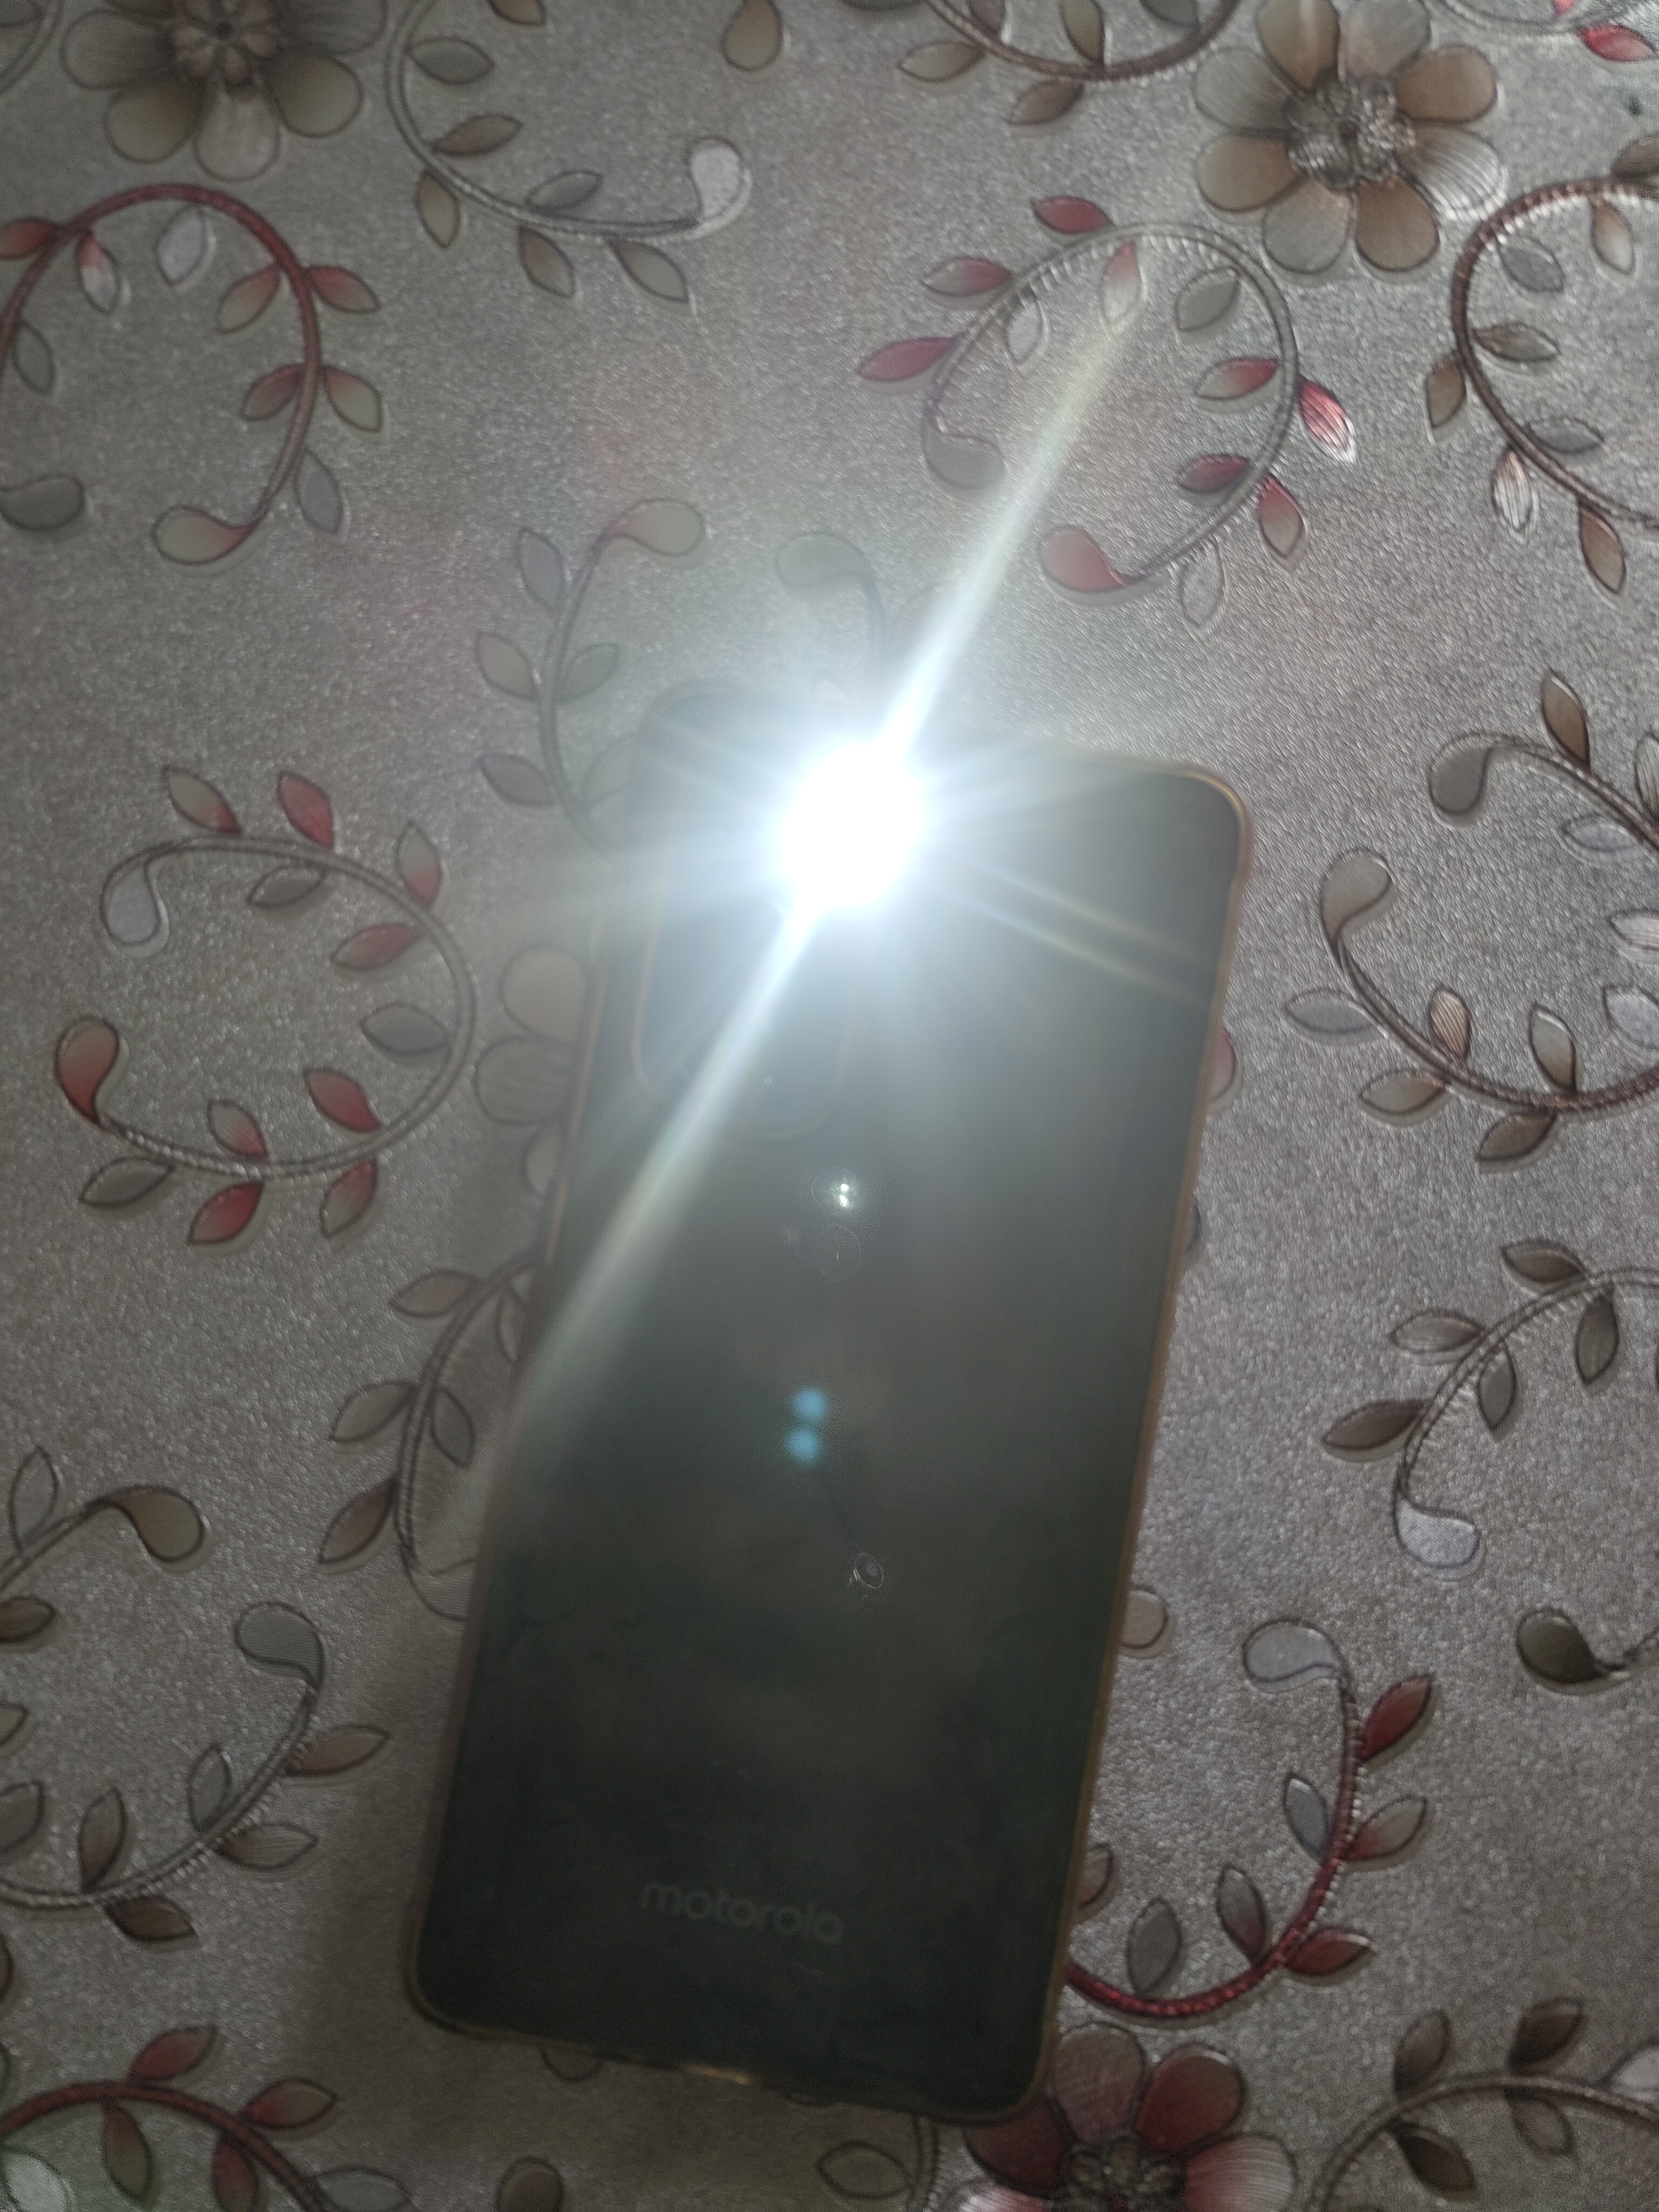Glare: (718, 698, 982, 961)
